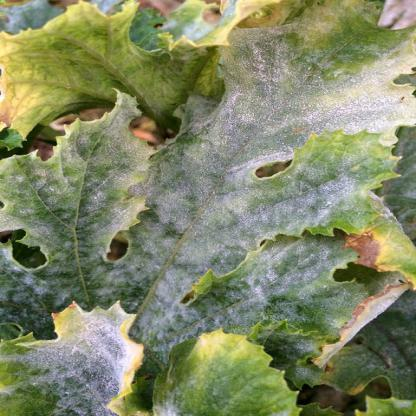Squash Powdery mildew leaf: (5, 3, 415, 414), (5, 295, 148, 411)
